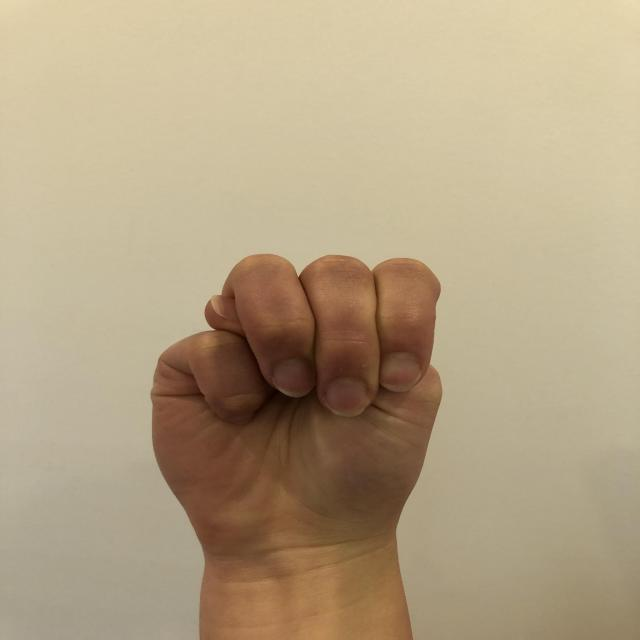M: (134, 242, 473, 567)
